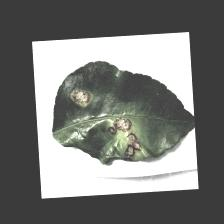canker: (61, 82, 150, 162)
